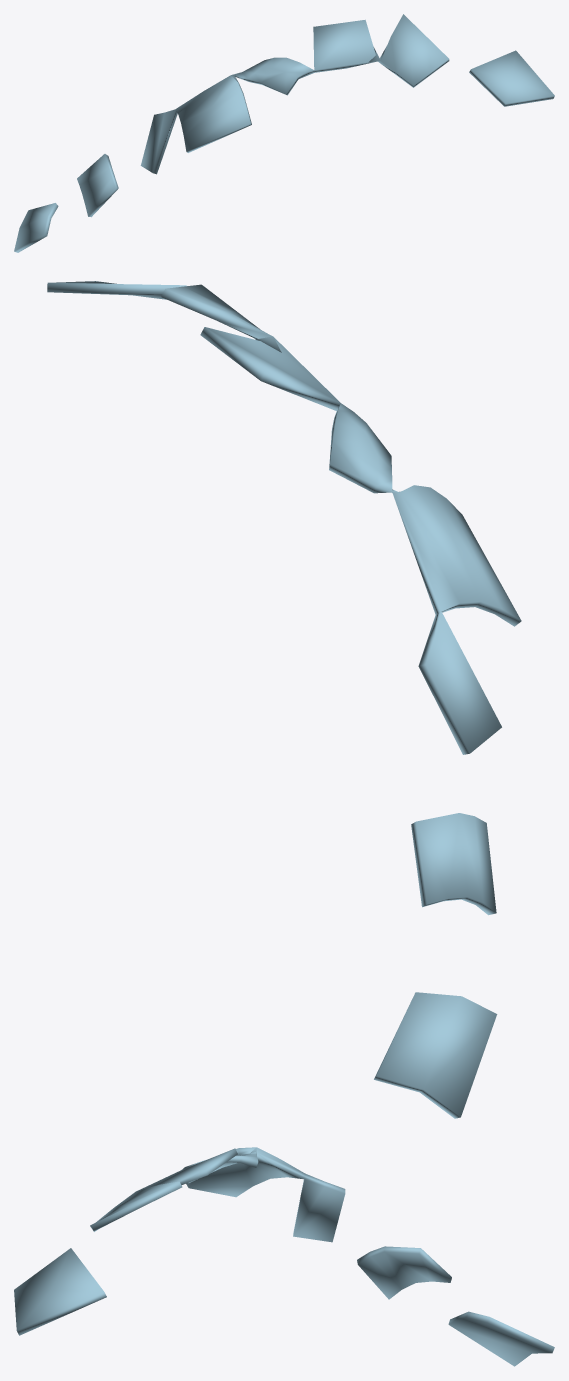
The model's file is articulacoes-dorsal-tarsometatarsal-ligaments-r.glb.
3 views of the same model, one above another, from view 1: azimuth 30°, elevation 25°; view 2: azimuth 150°, elevation 25°; view 3: azimuth 270°, elevation 25° (orthographic). The views are drawn at different scales.
Visible parts, largest first — view 1: Dorsal tarsometatarsal ligaments.r; view 2: Dorsal tarsometatarsal ligaments.r; view 3: Dorsal tarsometatarsal ligaments.r.
Part boxes in pixels (x1,y1,x2,y2): Dorsal tarsometatarsal ligaments.r: (14,14,554,252); Dorsal tarsometatarsal ligaments.r: (47,281,521,1118); Dorsal tarsometatarsal ligaments.r: (14,1147,554,1366).
Bounding box in the file's own units: 0.0441 × 0.0306 × 0.041.
